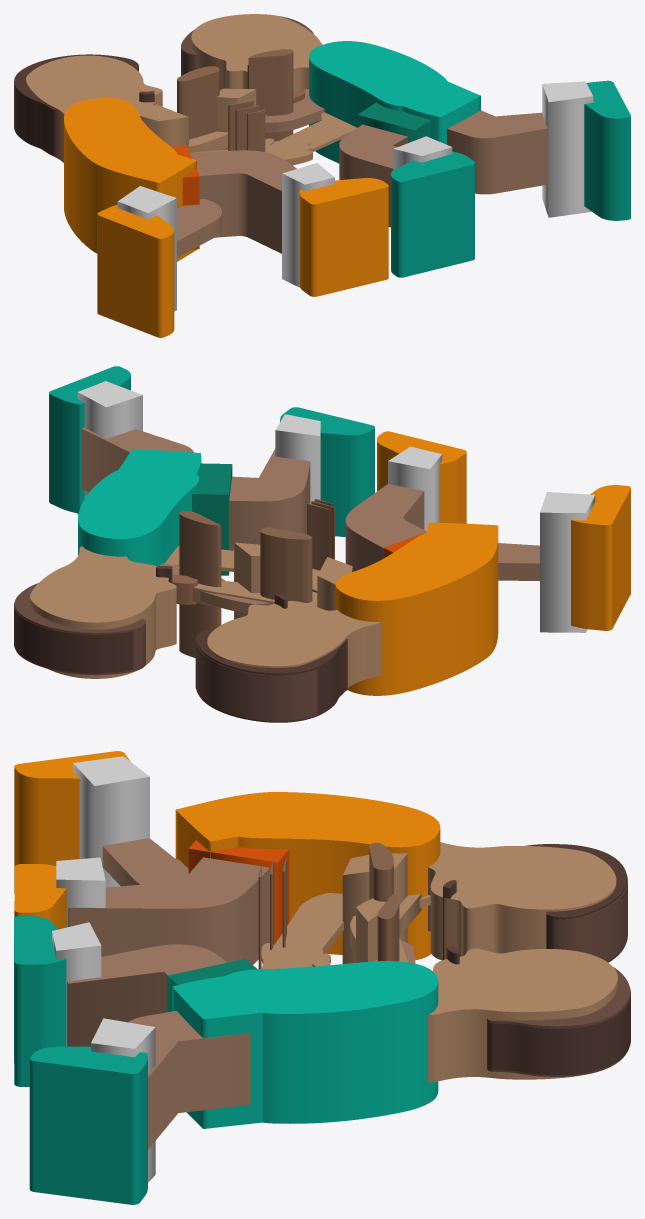
Rendered from emoji_u1f93c_1f3fd_200d_2642.glb.
3 views of the same model, one above another, from view 1: azimuth 30°, elevation 25°; view 2: azimuth 150°, elevation 25°; view 3: azimuth 270°, elevation 25° (orthographic). The views are drawn at different scales.
Visible parts, largest first — view 1: emoji_u1f93c_1f3fd_200d_2642; view 2: emoji_u1f93c_1f3fd_200d_2642; view 3: emoji_u1f93c_1f3fd_200d_2642.
Part boxes in pixels (bbox=[...]): emoji_u1f93c_1f3fd_200d_2642: bbox=[14, 14, 630, 337]; emoji_u1f93c_1f3fd_200d_2642: bbox=[14, 366, 630, 722]; emoji_u1f93c_1f3fd_200d_2642: bbox=[14, 751, 630, 1204].
Size of the model in its own units: 0.033 by 0.008 by 0.0265.
